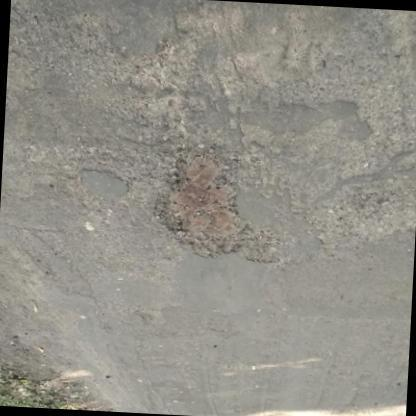pothole: (255, 0, 415, 144), (160, 141, 254, 261), (123, 26, 206, 134), (312, 171, 416, 255)
